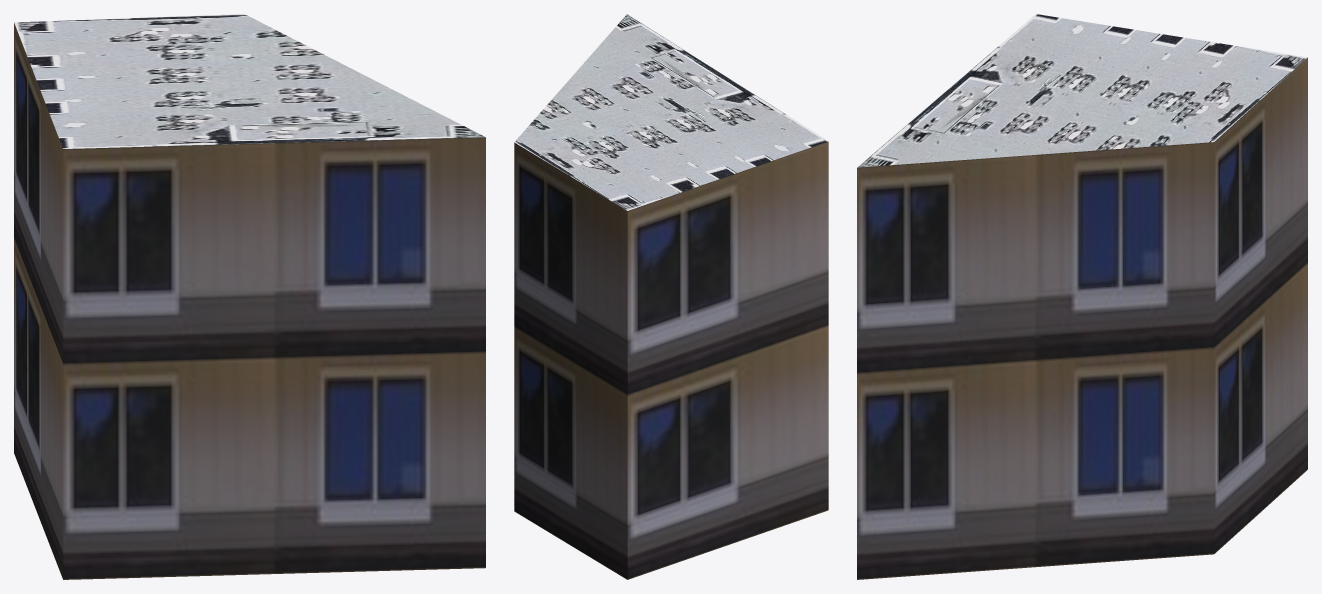
Rendered from ResTex__2573.fbx.
The picture shows the model from 3 angles, left to right: view 1: azimuth 30°, elevation 25°; view 2: azimuth 150°, elevation 25°; view 3: azimuth 270°, elevation 25°; orthographic projection. The views are drawn at different scales.
Visible parts, largest first — view 1: CityEngineMaterial_5_m, CityEngineMaterial_4_m; view 2: CityEngineMaterial_5_m, CityEngineMaterial_4_m; view 3: CityEngineMaterial_5_m, CityEngineMaterial_4_m.
Part boxes in pixels (<box>): CityEngineMaterial_5_m: <box>14,23,485,579</box>; CityEngineMaterial_4_m: <box>14,14,485,148</box>; CityEngineMaterial_5_m: <box>514,141,828,579</box>; CityEngineMaterial_4_m: <box>514,14,828,210</box>; CityEngineMaterial_5_m: <box>857,57,1307,579</box>; CityEngineMaterial_4_m: <box>857,14,1307,167</box>.
Bounding box in the file's own units: 4.8 × 6 × 5.95.
2 materials, 2 textured.
